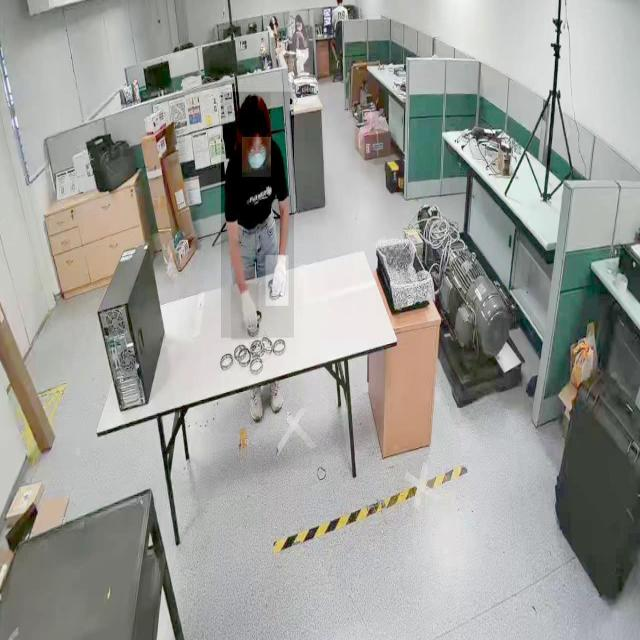face_mask: (242, 137, 271, 177)
hand_glove: (231, 284, 259, 342), (265, 255, 289, 307)
head_nohelmet: (236, 92, 271, 134), (294, 14, 302, 20)
person: (221, 92, 295, 338), (290, 11, 314, 84)
